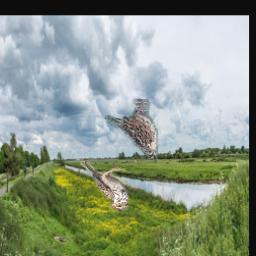Sparrow: (105, 99, 158, 162), (81, 162, 129, 212)
